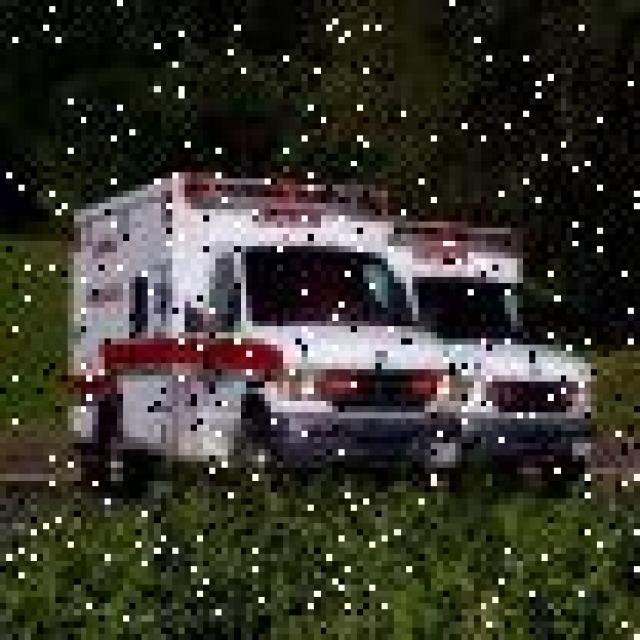emergency-vehicle: (37, 154, 443, 542), (298, 203, 637, 560)
